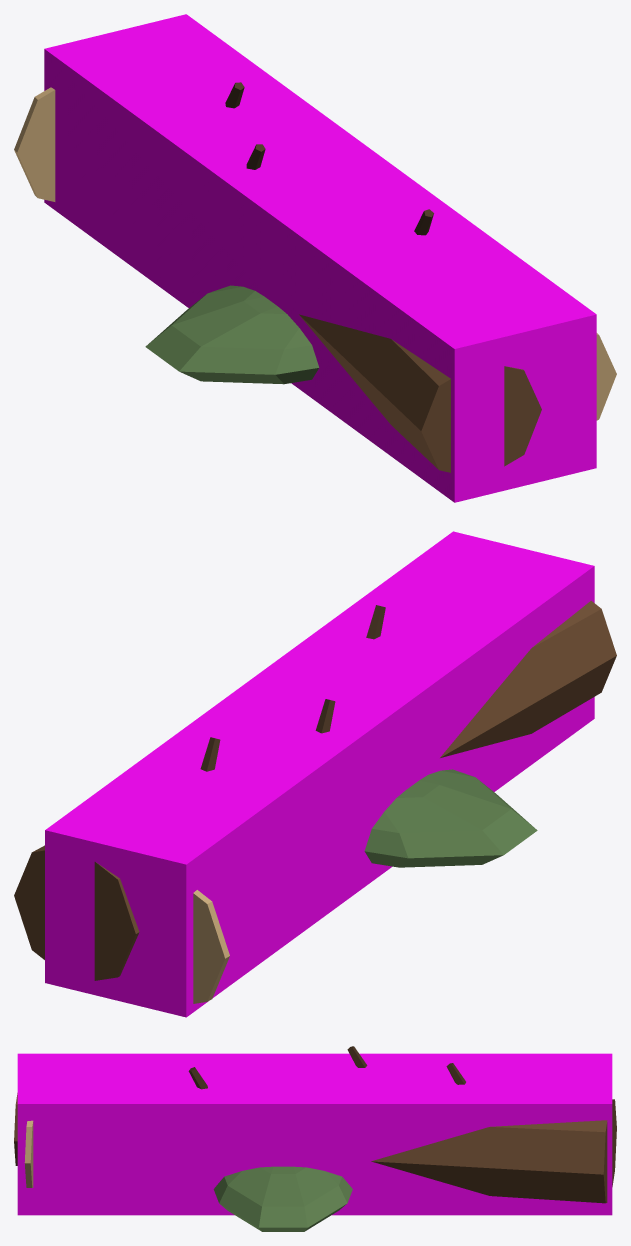
File: root_log.glb
3 renders of one model, top to bottom at view 1: azimuth 30°, elevation 25°; view 2: azimuth 150°, elevation 25°; view 3: azimuth 270°, elevation 25°, orthographic. The views are drawn at different scales.
Parts seen in each view (by area): view 1: Col_main, Log, Moss, RingB, RingF; view 2: Col_main, Log, Moss, RingB; view 3: Col_main, Log, Moss, RingF.
Part boxes in pixels (x1,y1,x2,y2): Col_main: (44,14,596,502); Log: (299,314,541,472); Moss: (145,285,319,384); RingB: (14,87,55,201); RingF: (596,333,616,420); Col_main: (45,531,594,1017); Log: (14,600,616,980); Moss: (364,769,537,867); RingB: (193,890,229,1003); Col_main: (17,1053,612,1215); Log: (14,1093,616,1203); Moss: (213,1166,352,1231); RingF: (24,1120,33,1187).
Bounding box in the file's own units: 1.52 × 0.7484 × 3.04.
